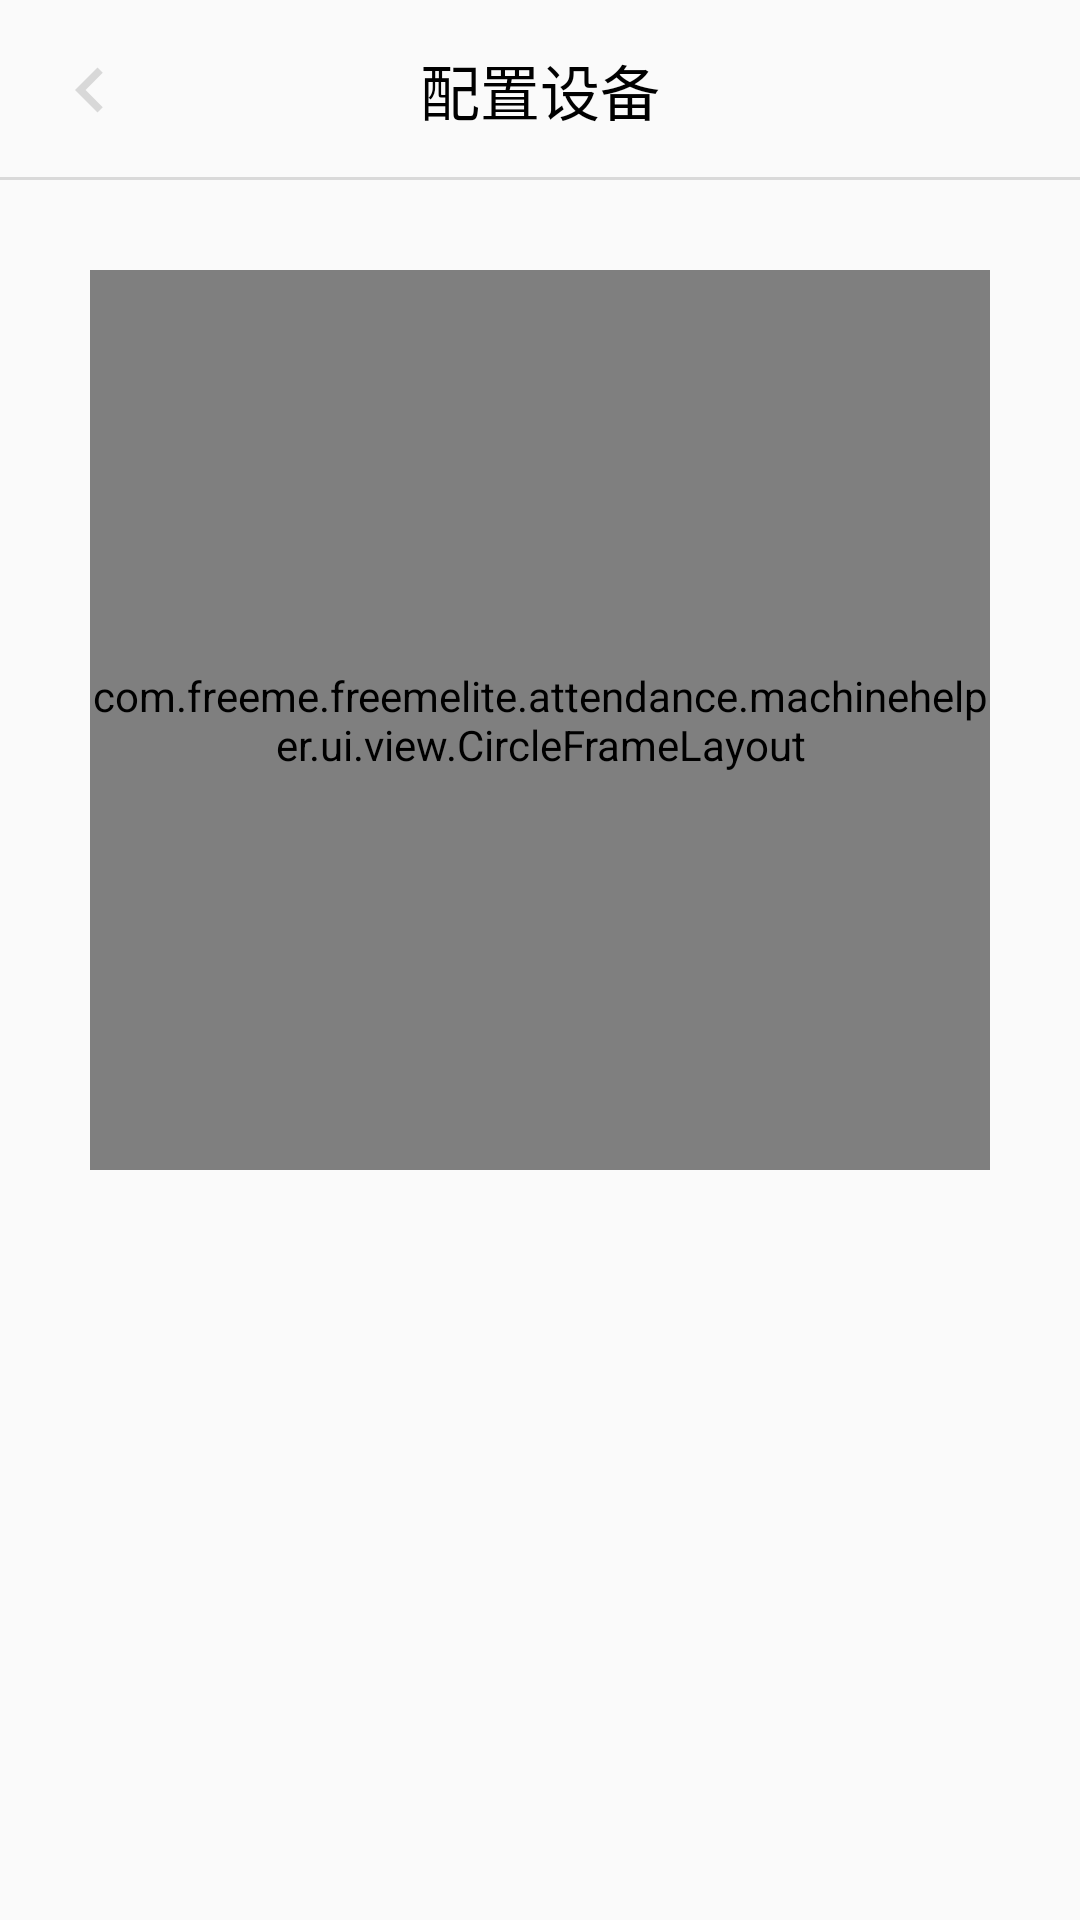

Icon click points for this 1080*1920 phone screenshot, format (x,y):
left arrow: (89,90)
